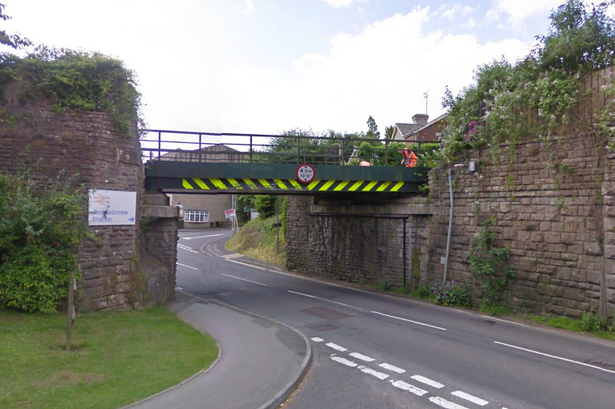bridge: (138, 125, 435, 203)
